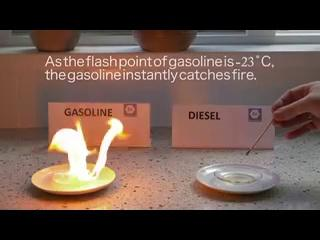Fire: (61, 104, 118, 180)
